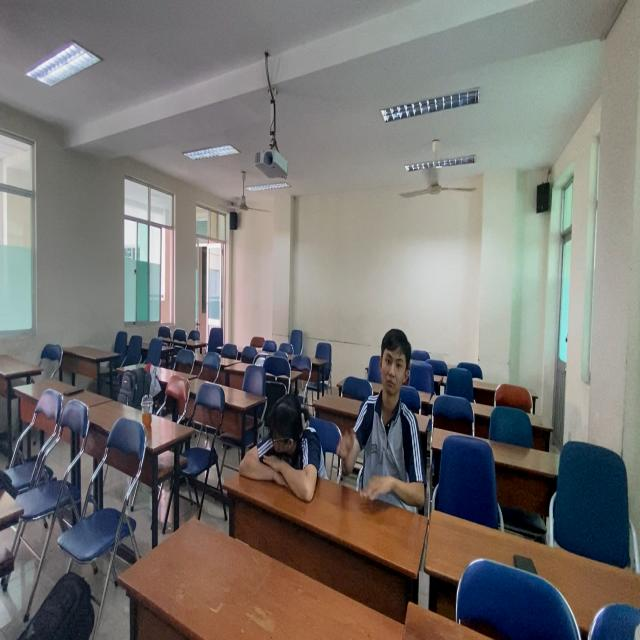sleep: (230, 379, 332, 530)
